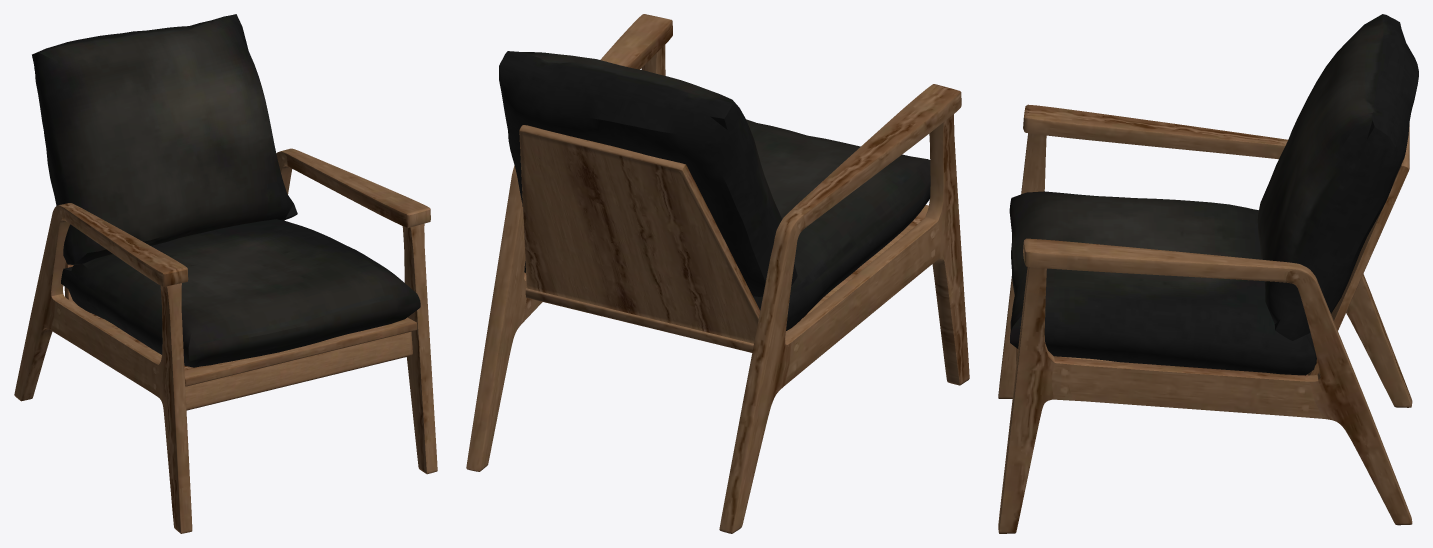
Rendered from armchair-modern.glb.
3 views of the same model, side by side, from view 1: azimuth 30°, elevation 25°; view 2: azimuth 150°, elevation 25°; view 3: azimuth 270°, elevation 25° (orthographic). The views are drawn at different scales.
Visible parts, largest first — view 1: armchair-modern; view 2: armchair-modern; view 3: armchair-modern.
Part boxes in pixels (x1,y1,x2,y2): armchair-modern: (14,14,437,533); armchair-modern: (466,14,969,533); armchair-modern: (998,14,1418,533).
Bounding box in the file's own units: 0.8203 × 1.02 × 0.9866.
2 materials, 2 textured.
